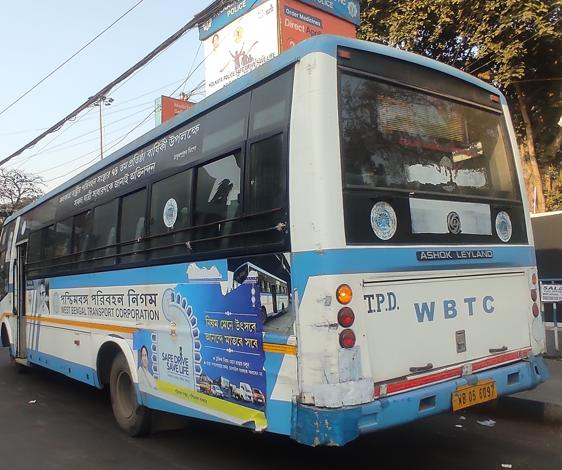Bus: (0, 28, 558, 446)
